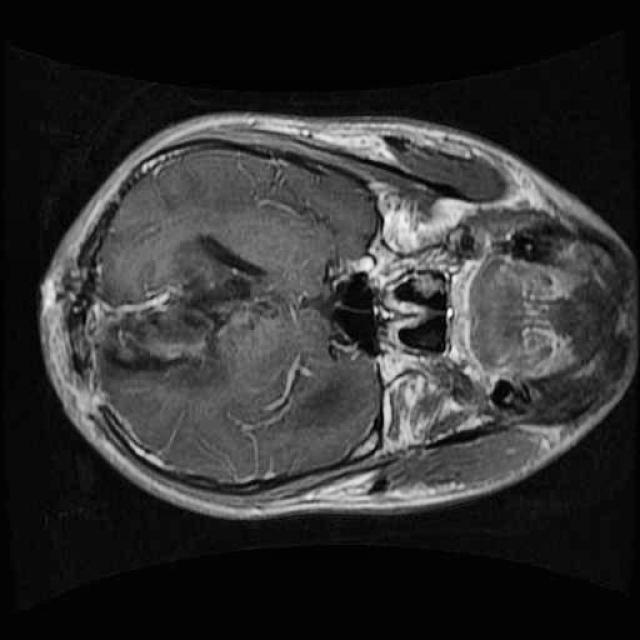Non-Tumor: (69, 212, 292, 408)
